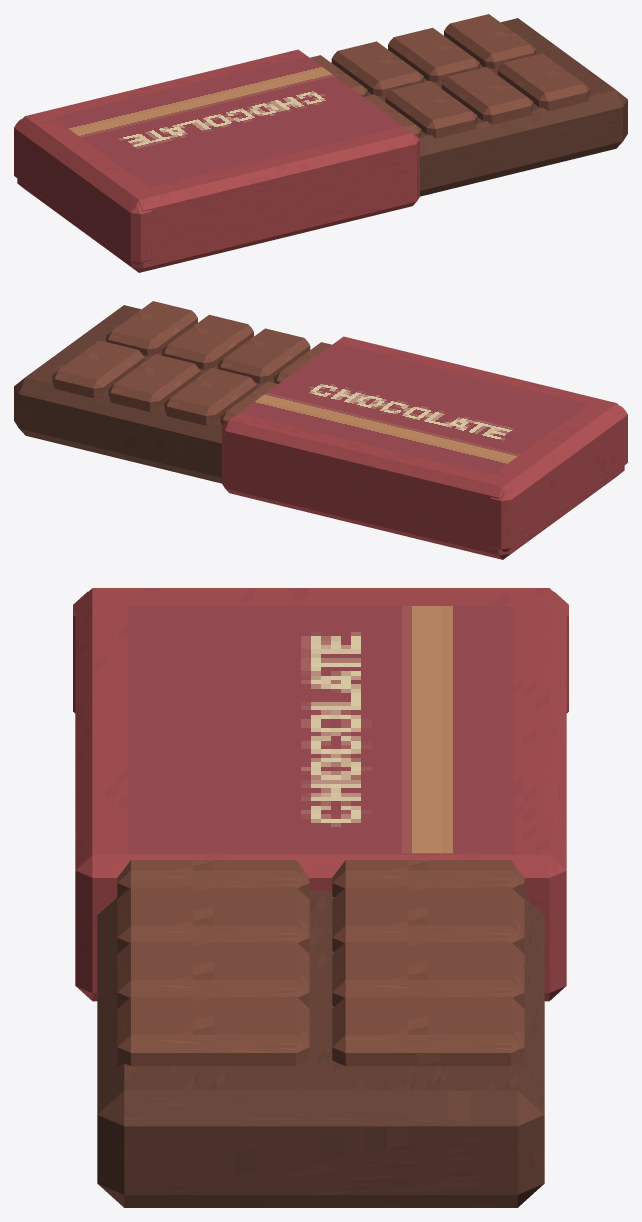
The model's file is chocolate.glb.
3 views of the same model, one above another, from view 1: azimuth 30°, elevation 25°; view 2: azimuth 150°, elevation 25°; view 3: azimuth 270°, elevation 25° (orthographic). The views are drawn at different scales.
Visible parts, largest first — view 1: block_paper wrapped half, block_printed chocolate wrapper, block_molded chocolate segment (×8), block_solid chocolate bar, block_crimped paper end; view 2: block_paper wrapped half, block_printed chocolate wrapper, block_molded chocolate segment (×8), block_solid chocolate bar, block_crimped paper end; view 3: block_printed chocolate wrapper, block_molded chocolate segment (×8), block_solid chocolate bar, block_paper wrapped half.
Boxes of the visible parts, <box> form: block_paper wrapped half: <box>17,49,419,272</box>; block_printed chocolate wrapper: <box>53,55,402,187</box>; block_molded chocolate segment (×8): <box>310,14,589,138</box>; block_solid chocolate bar: <box>368,18,627,196</box>; block_crimped paper end: <box>14,119,151,264</box>; block_paper wrapped half: <box>222,336,624,559</box>; block_printed chocolate wrapper: <box>239,342,588,474</box>; block_molded chocolate segment (×8): <box>52,301,331,425</box>; block_solid chocolate bar: <box>14,305,273,483</box>; block_crimped paper end: <box>490,406,627,551</box>; block_printed chocolate wrapper: <box>128,606,513,853</box>; block_molded chocolate segment (×8): <box>117,860,524,1066</box>; block_solid chocolate bar: <box>97,891,544,1207</box>; block_paper wrapped half: <box>75,588,566,1001</box>.
Size of the model in its own units: 0.12 by 0.0167 by 0.0509.
1 material, 1 textured.
